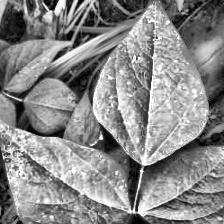ALS: (88, 8, 206, 165), (0, 111, 129, 224), (135, 128, 224, 224)
